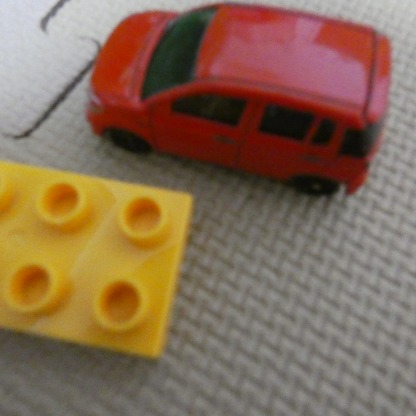car: (92, 4, 390, 205)
